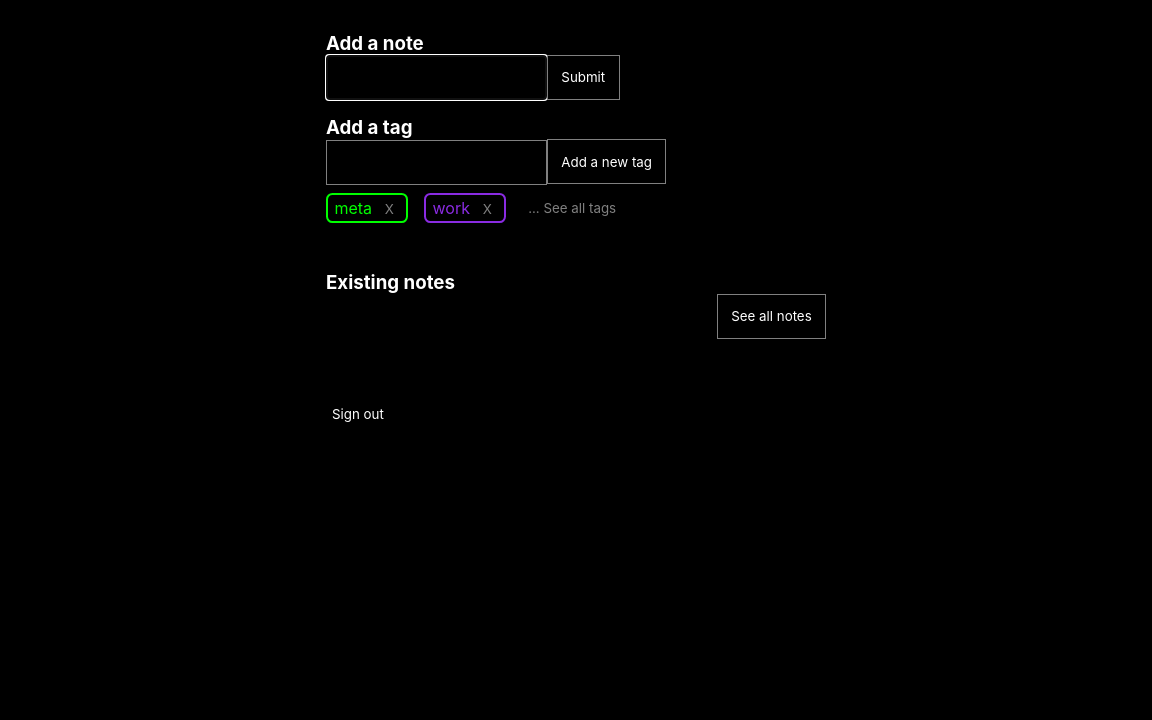
Scenario: App › happy tags › does not delete a tag if delete is canceled
The width and height of the screenshot is (1152, 720).
Expected: the text "meta" is shown, [334,198,372,218]
Step 1. Click the button with test id "tag-1-delete" → (389, 209), box [379,200,400,218]
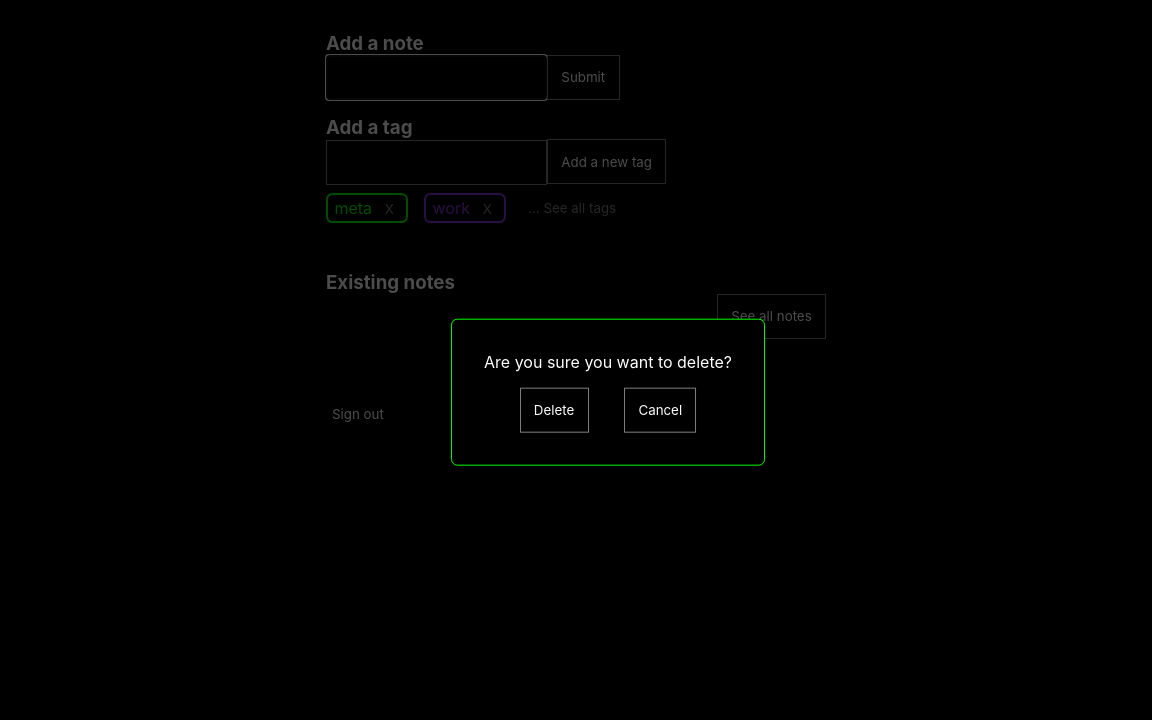
Step 2. Click the button "Cancel" → (660, 410), box [624,388,696,432]
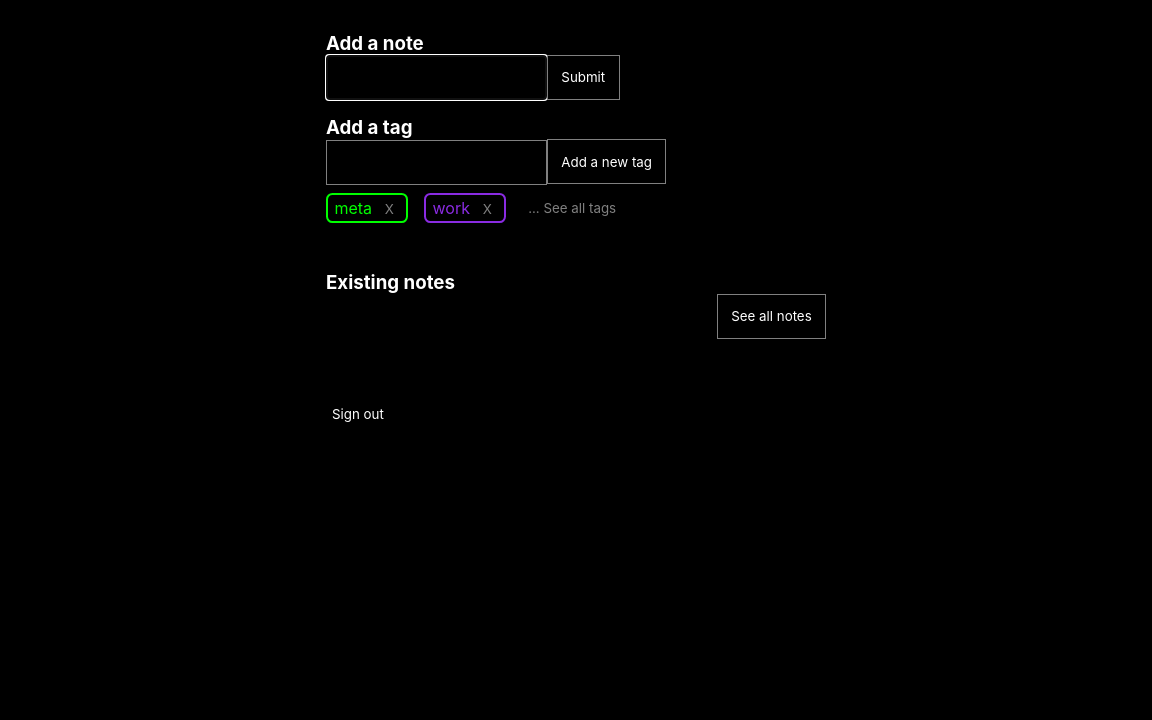
Expected: the text "delete" is gone
